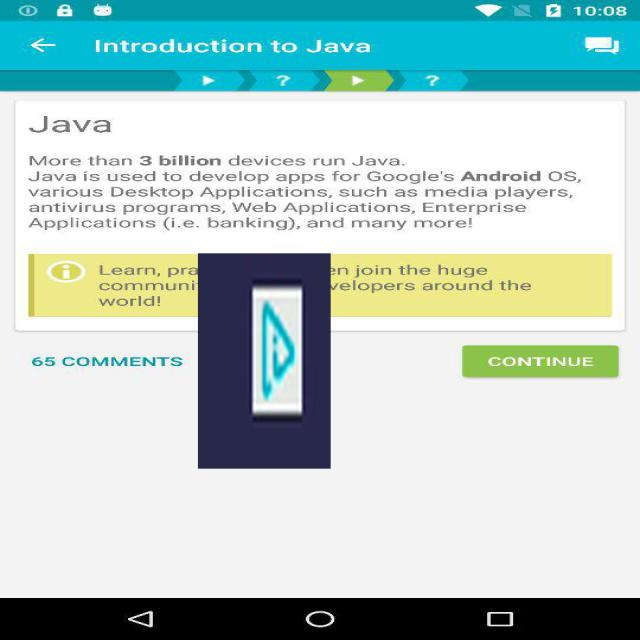sneaking: (198, 253, 331, 469)
